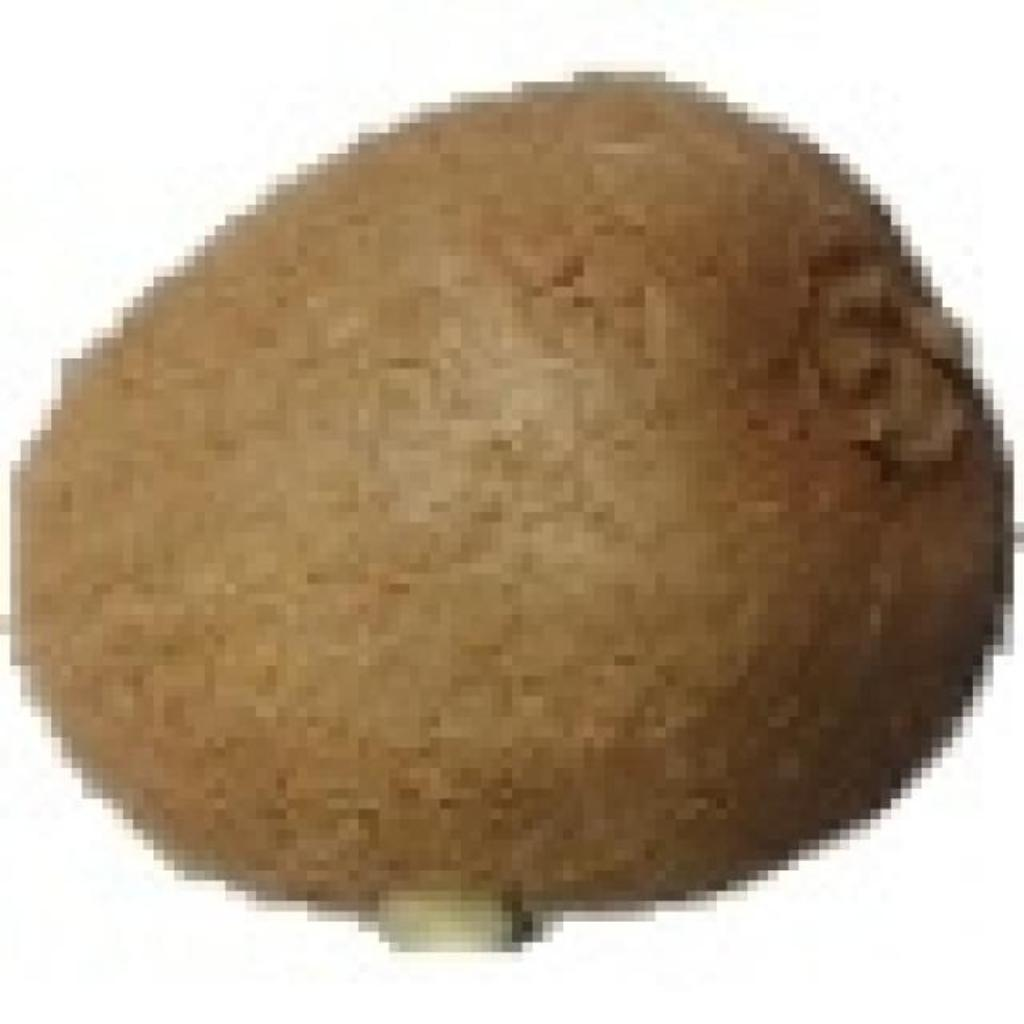kiwi: (10, 61, 993, 922)
